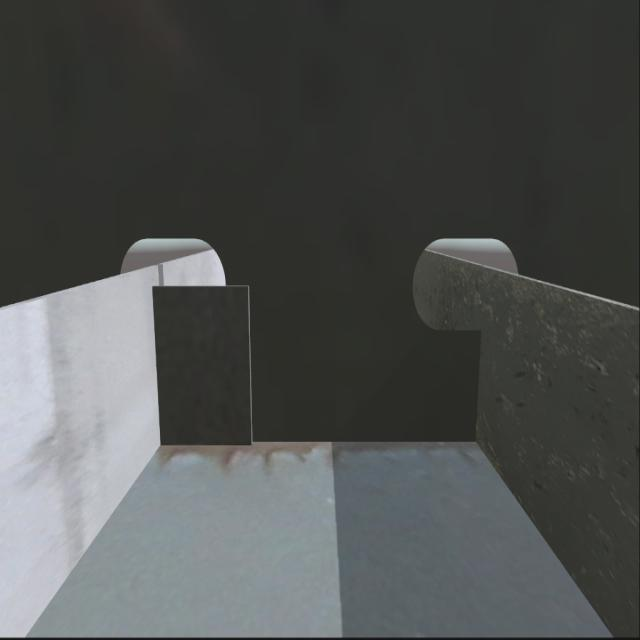fillet_yong_jeop_jang: (152, 428, 484, 456)
longi_yong_jeop_jang: (148, 280, 168, 459), (467, 326, 487, 447)
plate_CP01: (155, 287, 250, 451)
